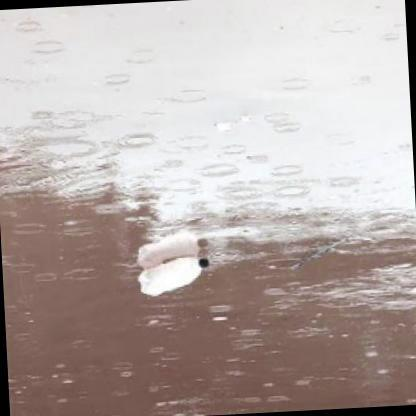Plastic: (135, 257, 211, 297)
